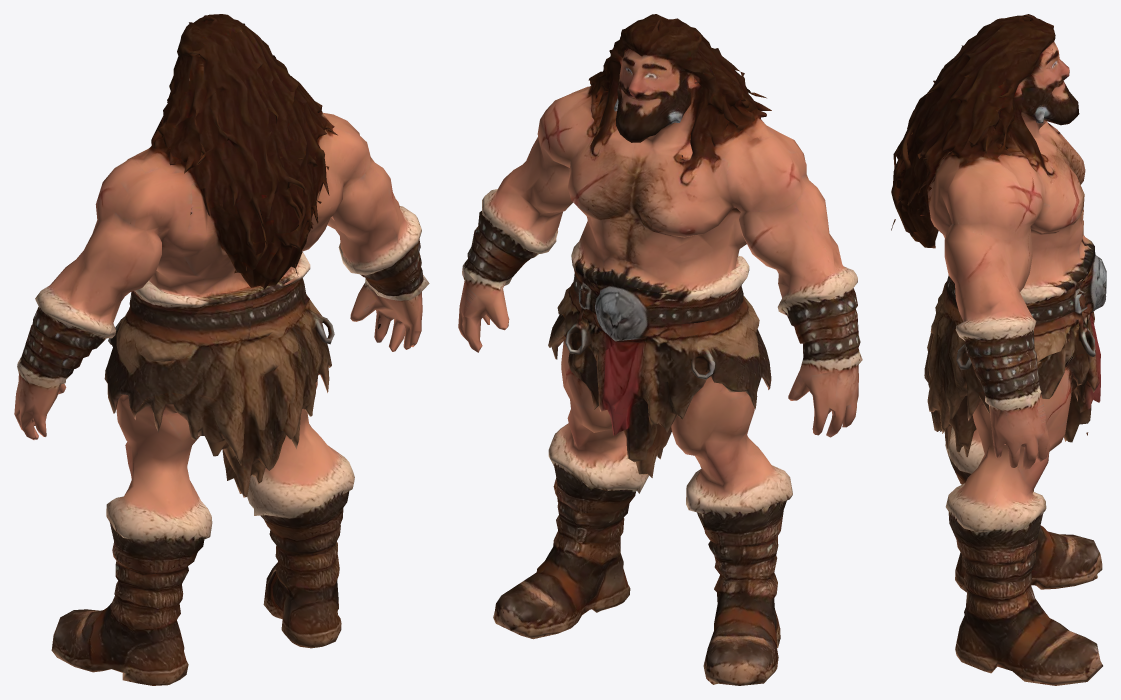
Rendered from berserker.glb.
The picture shows the model from 3 angles, left to right: view 1: azimuth 30°, elevation 25°; view 2: azimuth 150°, elevation 25°; view 3: azimuth 270°, elevation 25°; orthographic projection. The views are drawn at different scales.
Parts seen in each view (by area): view 1: model; view 2: model; view 3: model.
Part boxes in pixels (x1,y1,x2,y2): model: (14, 14, 429, 685); model: (458, 14, 862, 685); model: (891, 14, 1106, 685).
Bounding box in the file's own units: 0.663 × 0.9973 × 0.3195.
1 material, 1 textured.
